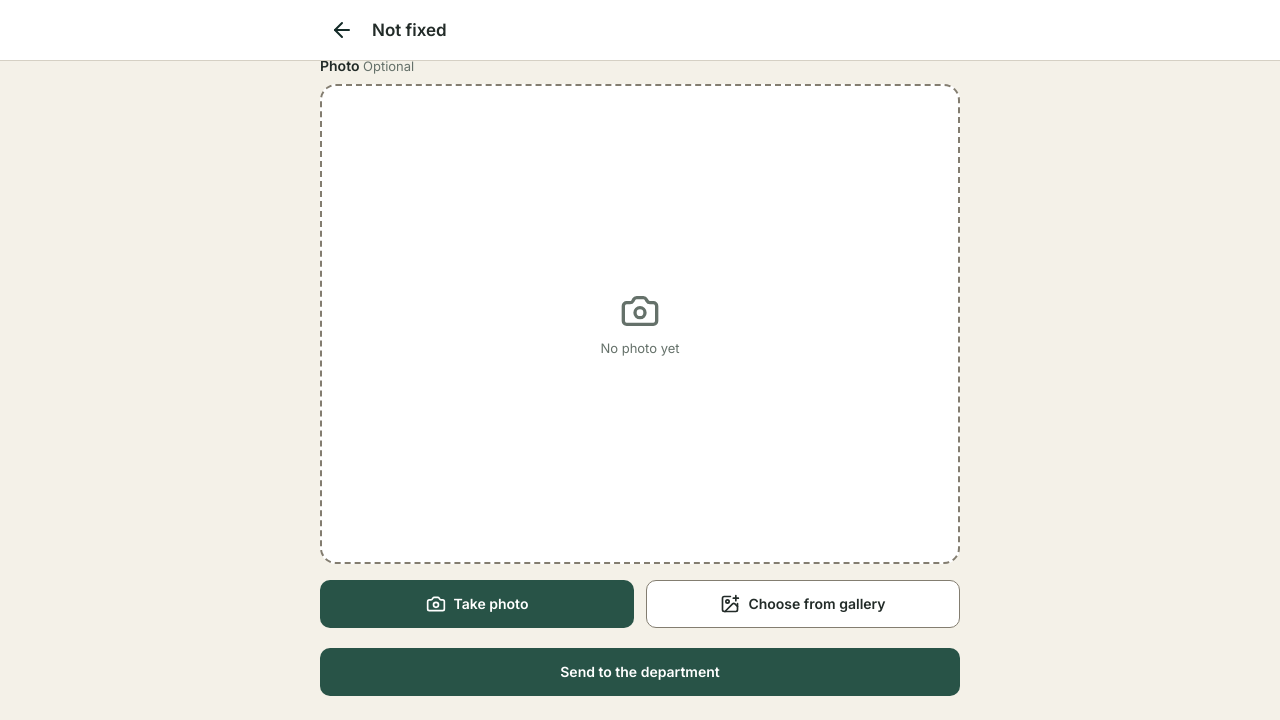
issue detail › 'Not fixed' needs a reason, sends NOT_FIXED with the photo, and only adds a dispute
Later steps or results of the test are not shown.
(page scrolled)
Click the button "Send to the department" at (640, 672), box [320,648,960,696]
(page scrolled)
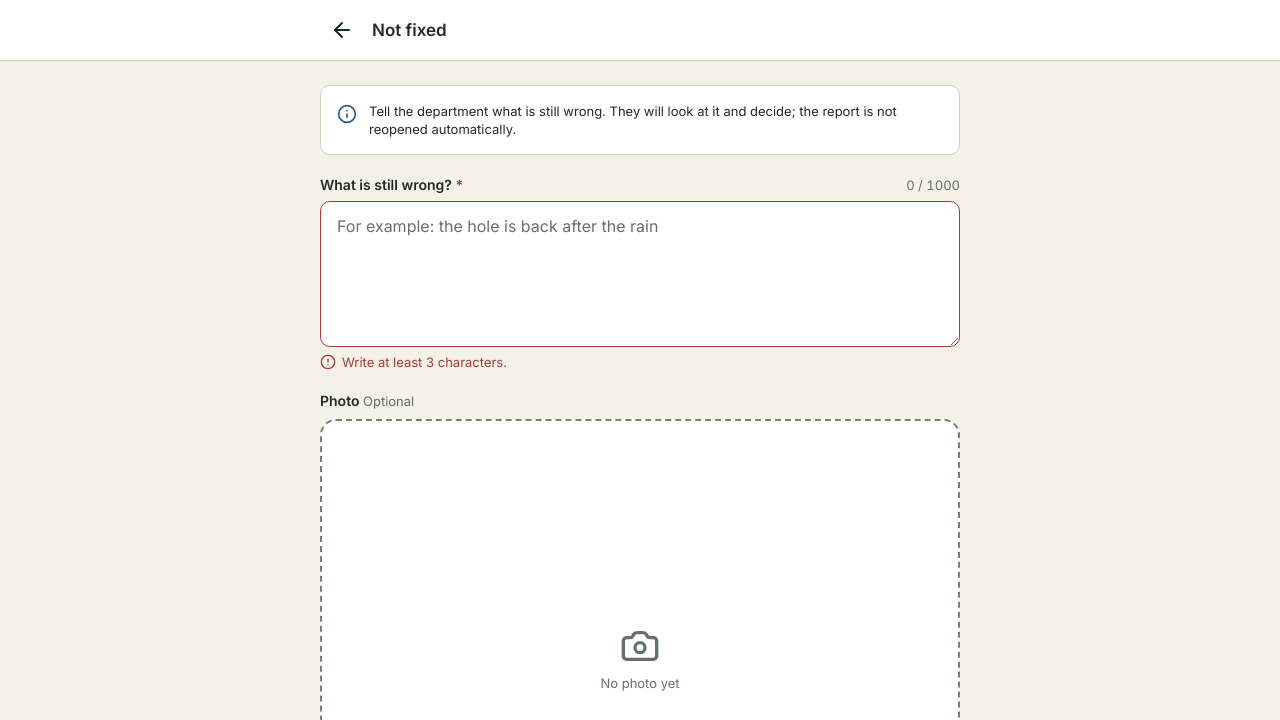
Now the text "Write at least 3 characters." is shown, box [342,353,507,371]
